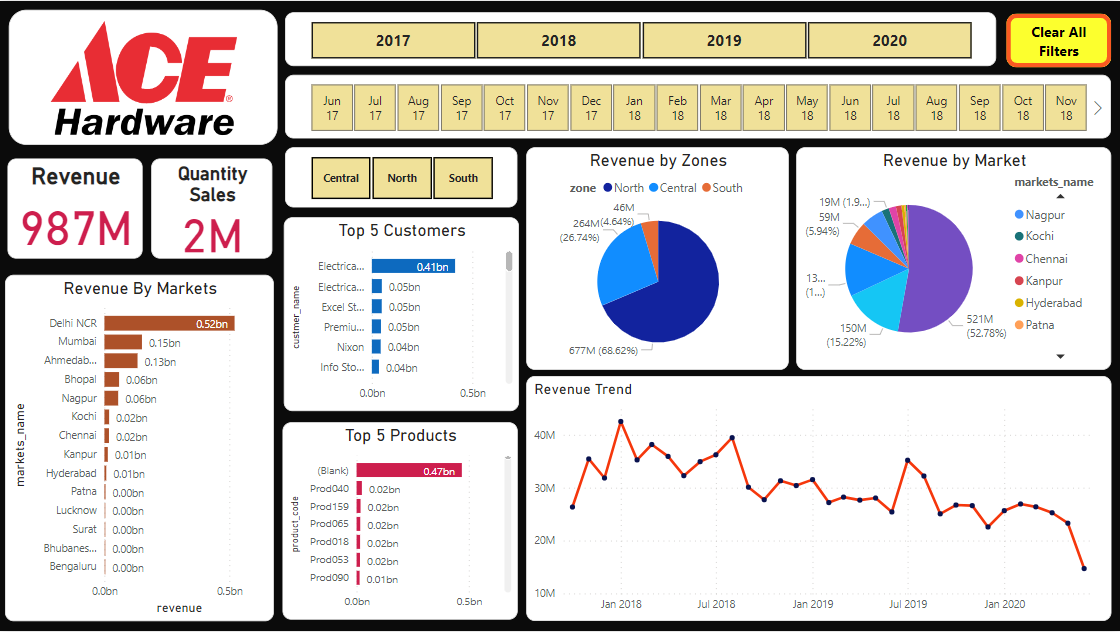

The page's visual inventory and layout, read from the dashboard file:
{"tool":"powerbi","page":{"name":"Page 1","canvas":[1280,720],"ordinal":0},"visuals":[{"type":"card","title":"Revenue","fields":{"Values":["sales transactions.revenue"]},"box":[8.6,180,154.3,114.3],"z":0},{"type":"card","title":"Quantity Sales","fields":{"Values":["sales transactions.sales_qty"]},"box":[172.9,180,138.6,114.3],"z":1000},{"type":"slicer","fields":{"Values":["sales date.year"]},"box":[325.7,12.9,812.9,61.4],"z":2000},{"type":"barChart","title":"Revenue By Markets","fields":{"Y":["sales transactions.revenue"],"Category":["sales markets.markets_name"]},"box":[5.7,312.9,307.1,395.7],"z":2000},{"type":"slicer","fields":{"Values":["sales date.cy_date"]},"box":[325.7,84.3,944.3,72.9],"z":3000},{"type":"pieChart","title":"Revenue by Zones","fields":{"Category":["sales markets.zone"],"Y":["sales transactions.Norm_sales_amount"]},"box":[601.4,167.1,300,254.3],"z":3000},{"type":"pieChart","title":"Revenue by Market","fields":{"Category":["sales markets.markets_name"],"Y":["sales transactions.Norm_sales_amount"]},"box":[910,167.1,360,254.3],"z":4000},{"type":"barChart","title":"Top 5 Products","fields":{"Y":["sales transactions.revenue"],"Category":["sales products.product_code"]},"box":[322.9,481.4,268.6,225.7],"z":5000},{"type":"lineChart","title":"Revenue Trend","fields":{"Category":["sales date.cy_date"],"Y":["sales transactions.revenue"]},"box":[601.7,428,668.7,280.3],"z":6000},{"type":"barChart","title":"Top 5 Customers","fields":{"Y":["sales transactions.revenue"],"Category":["sales customers.custmer_name"]},"box":[324.3,247.1,268.6,221.4],"z":7000},{"type":"slicer","fields":{"Values":["sales markets.zone"]},"box":[325.7,167.1,265.7,68.6],"z":7001},{"type":"image","box":[10,10,307.1,154.3],"z":7002},{"type":"actionButton","title":"Clear All Filters","box":[1150,14.3,120,61.4],"z":7003}]}

Visuals, with their boxes in screenshot pixels (x1, y1, x2, y2), scaled from the page's 1280x720 canvas onto the 1120x632 screenshot:
"Revenue" card: {"x1": 8, "y1": 158, "x2": 143, "y2": 258}
"Quantity Sales" card: {"x1": 151, "y1": 158, "x2": 273, "y2": 258}
slicer - sales date.year: {"x1": 285, "y1": 11, "x2": 996, "y2": 65}
"Revenue By Markets" barChart: {"x1": 5, "y1": 275, "x2": 274, "y2": 622}
slicer - sales date.cy_date: {"x1": 285, "y1": 74, "x2": 1111, "y2": 138}
"Revenue by Zones" pieChart: {"x1": 526, "y1": 147, "x2": 789, "y2": 370}
"Revenue by Market" pieChart: {"x1": 796, "y1": 147, "x2": 1111, "y2": 370}
"Top 5 Products" barChart: {"x1": 283, "y1": 423, "x2": 518, "y2": 621}
"Revenue Trend" lineChart: {"x1": 526, "y1": 376, "x2": 1112, "y2": 622}
"Top 5 Customers" barChart: {"x1": 284, "y1": 217, "x2": 519, "y2": 411}
slicer - sales markets.zone: {"x1": 285, "y1": 147, "x2": 517, "y2": 207}
image: {"x1": 9, "y1": 9, "x2": 277, "y2": 144}
"Clear All Filters" actionButton: {"x1": 1006, "y1": 13, "x2": 1111, "y2": 66}
